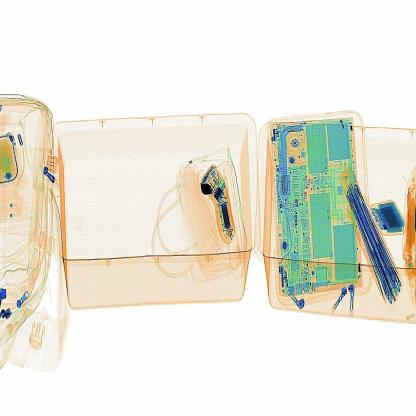scissors: (197, 176, 221, 207)
